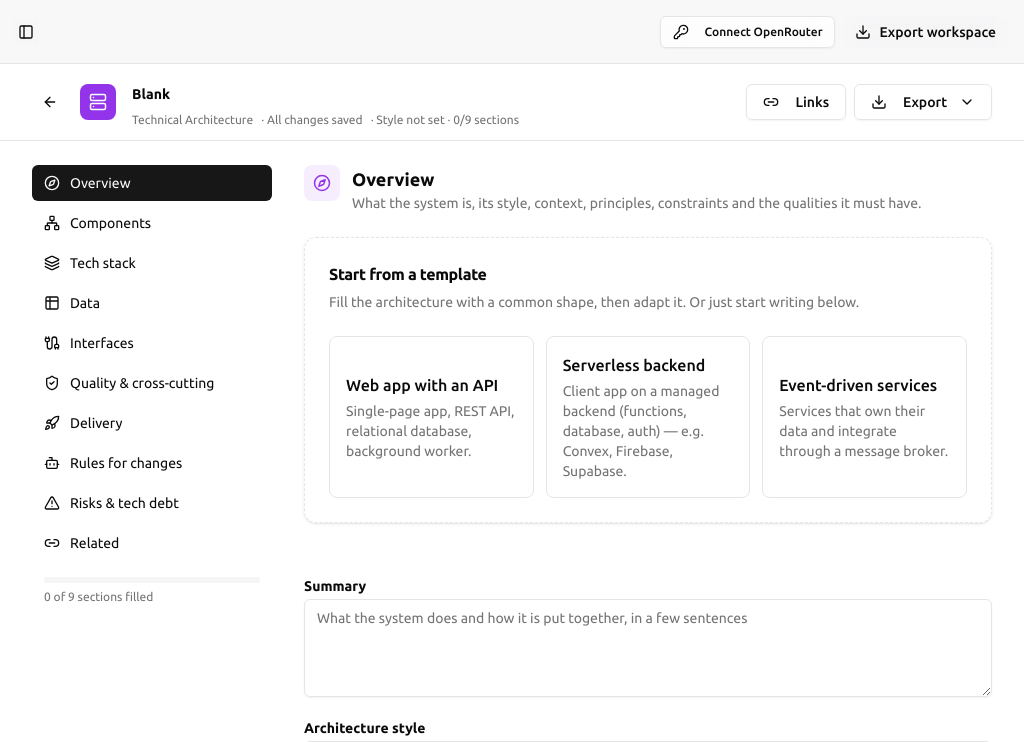
workspace apps render › a blank technical architecture offers templates
Check: the heading "Start from a template" is shown, box top-left (329, 265), bottom-right (486, 283)
Step 1. Click the button "Event-driven services" → point(865, 417), box top-left (762, 336), bottom-right (967, 498)
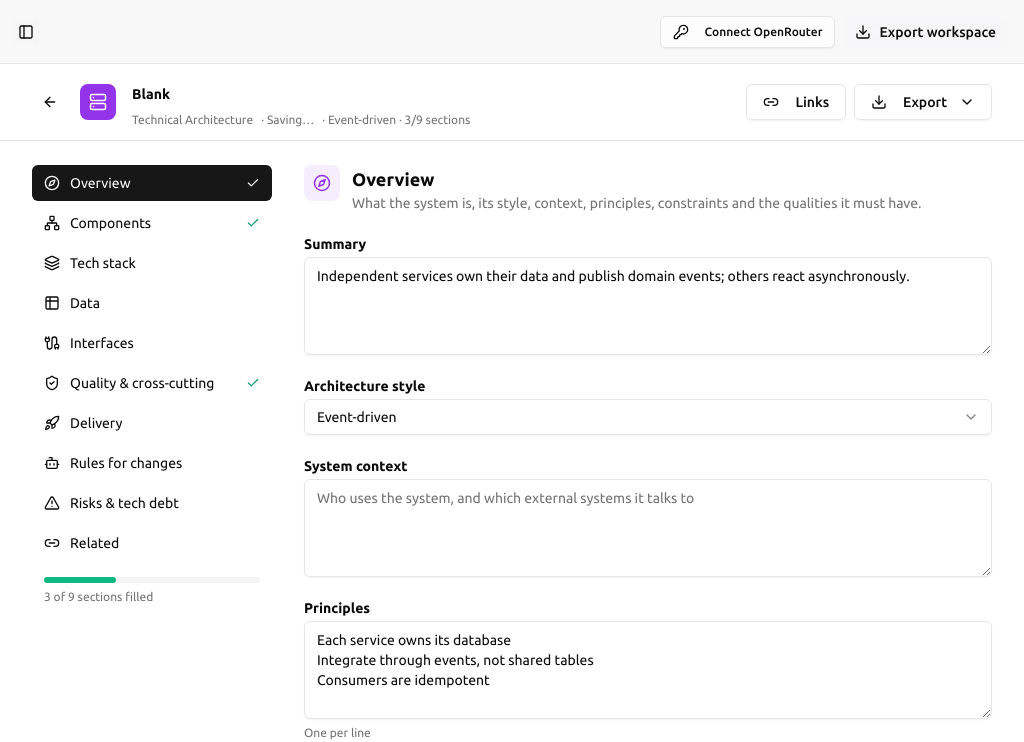
Check: the heading "Start from a template" is gone
Check: the text box labelled "Summary" holds "Independent services own their data and publish domain events; others react asynchronously.", box top-left (304, 257), bottom-right (992, 355)
